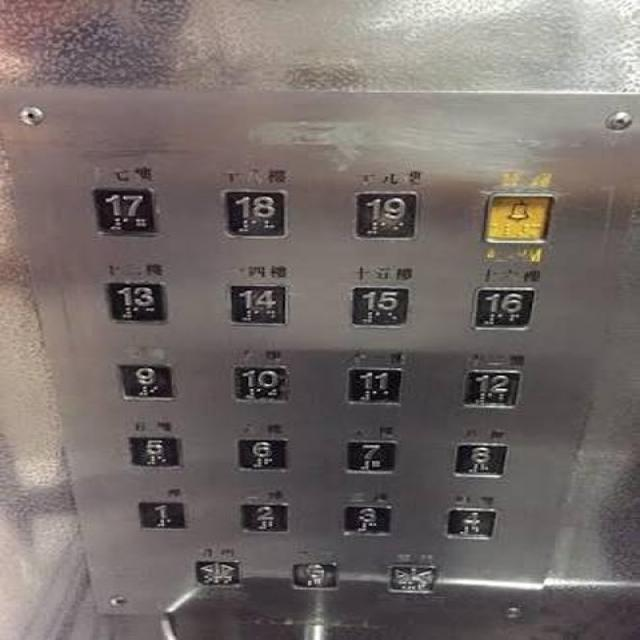1: (131, 496, 189, 532)
10: (224, 360, 292, 406)
11: (338, 363, 406, 409)
12: (456, 365, 524, 410)
13: (100, 277, 172, 325)
14: (221, 280, 292, 329)
15: (343, 282, 413, 330)
16: (467, 283, 537, 332)
17: (86, 183, 162, 236)
18: (216, 185, 292, 241)
19: (345, 186, 423, 242)
2: (233, 497, 292, 536)
3: (336, 500, 395, 538)
4: (440, 504, 500, 542)
5: (123, 432, 185, 471)
6: (229, 433, 292, 474)
7: (337, 435, 400, 476)
8: (447, 438, 512, 481)
9: (113, 358, 180, 403)
G: (285, 557, 344, 592)
alarm: (476, 188, 559, 247)
close: (382, 560, 442, 596)
open: (189, 555, 244, 590)
